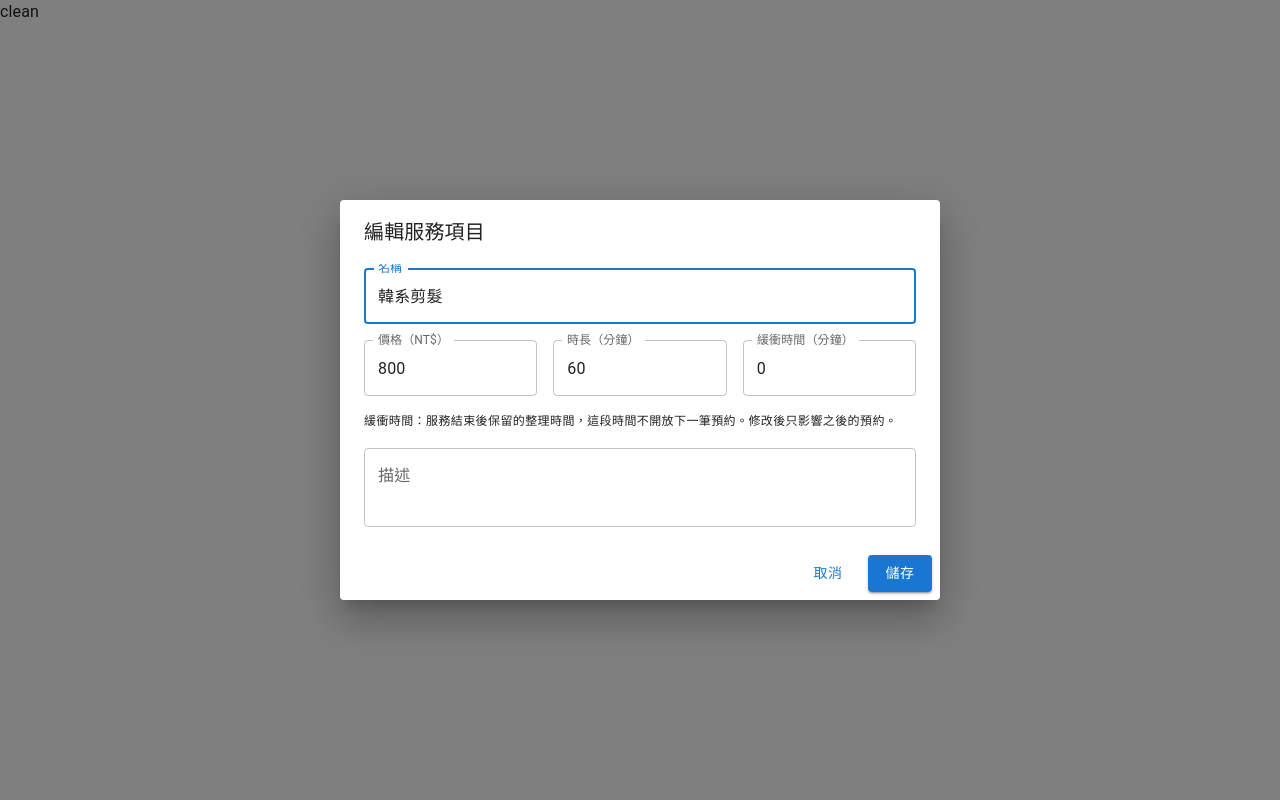
ServiceFormDialog 未儲存變更（TASK-083，key: service-form） › dirty 判定 › 編輯：載入當下乾淨；改任一欄位為變更；改回原值回到乾淨
The image size is (1280, 800).
Expected: the text with test id "probe" reads "clean", [0,2,39,21]
Replace the text in the number field labelled "價格（NT$）" with "900" at (451, 368), box [364,340,537,396]
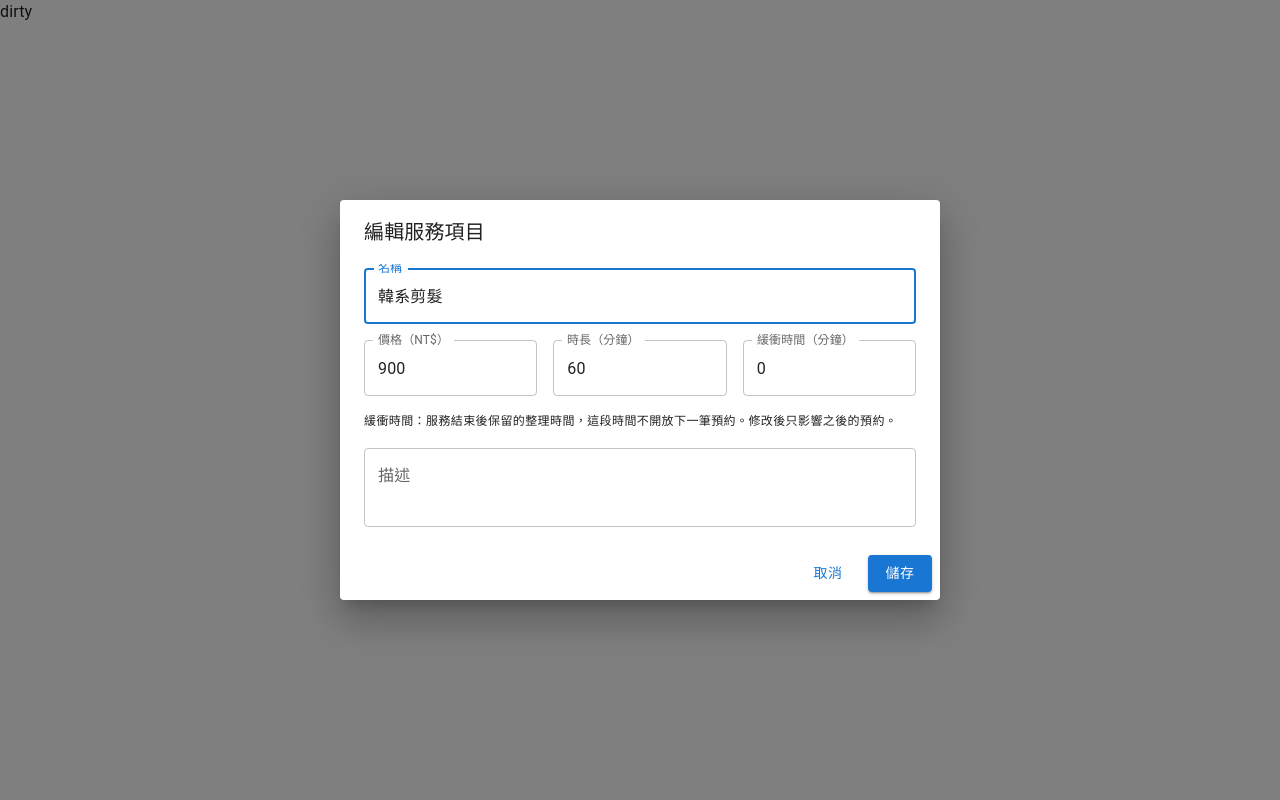
Expected: the text with test id "probe" reads "dirty", [0,2,32,21]
Replace the text in the number field labelled "價格（NT$）" with "800" at (451, 368), box [364,340,537,396]
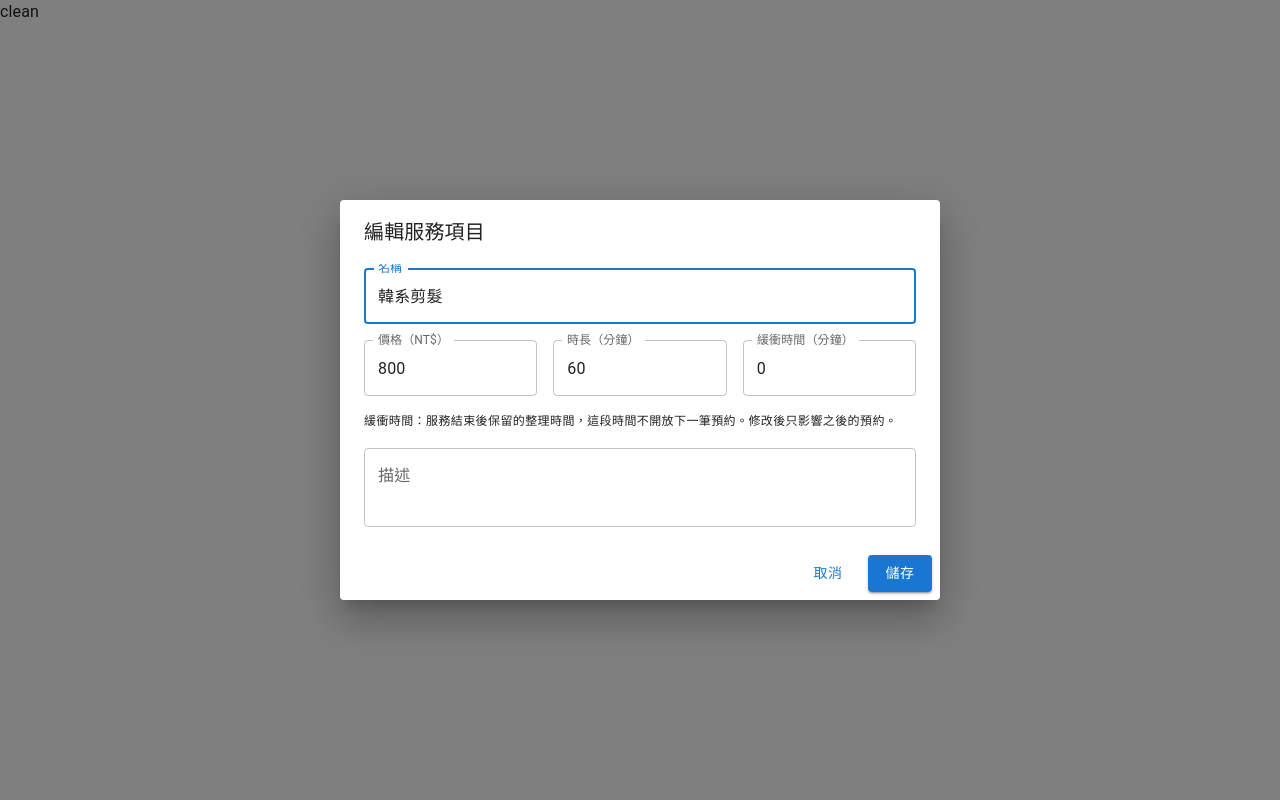
Expected: the text with test id "probe" reads "clean", [0,2,39,21]
